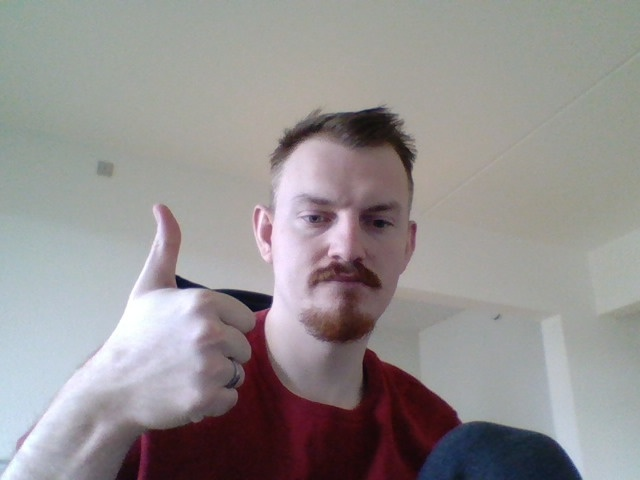ThumpsUp: (106, 195, 257, 432)
